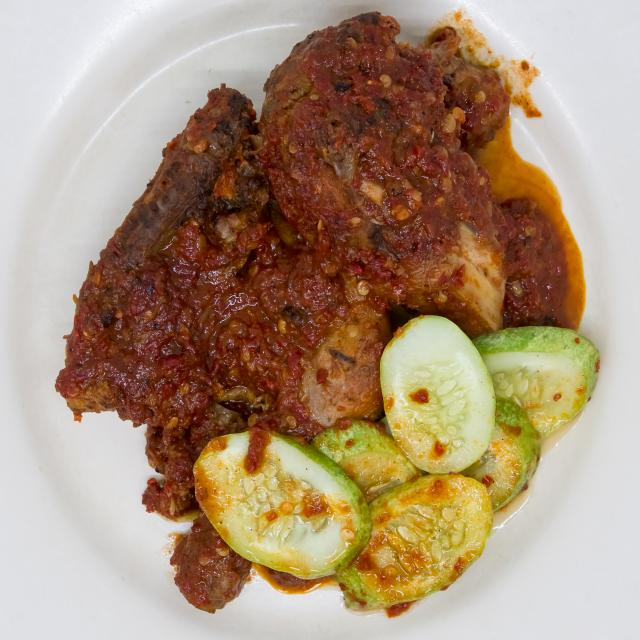Ayam-Bumbu-Rujak: (51, 1, 551, 626)
